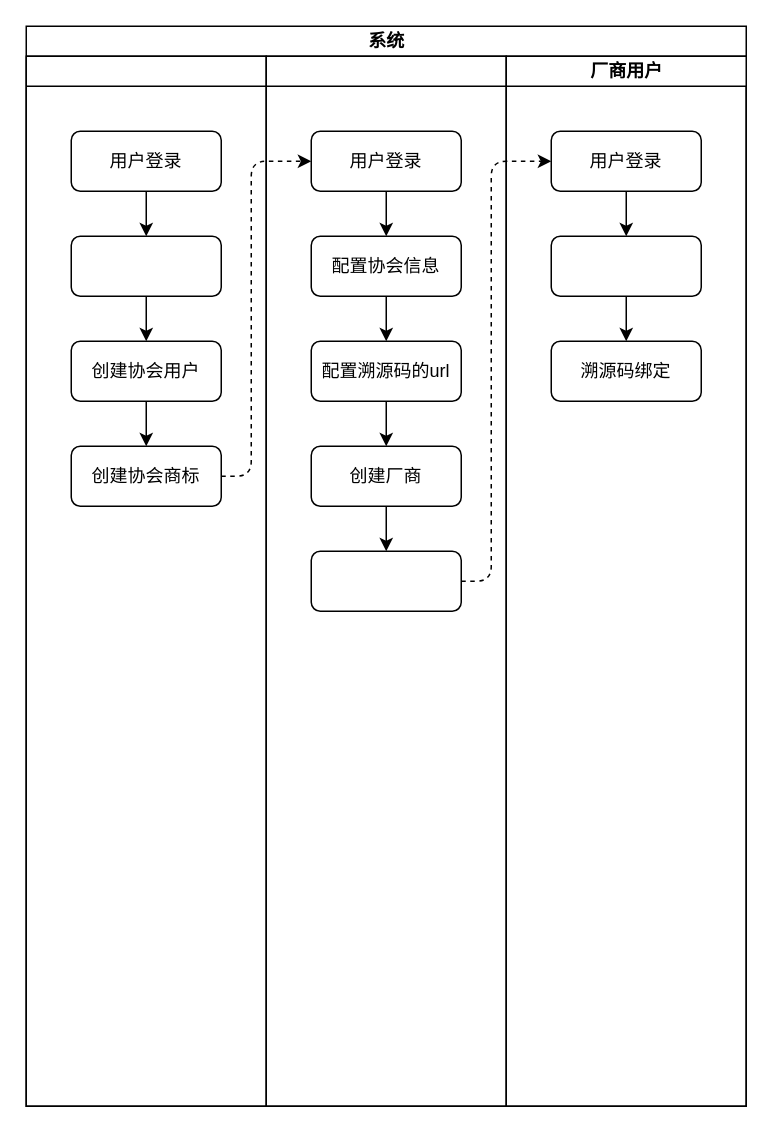
Image size: 773x1133. Some labels were removed from this diagram. Here are the shapes that lost their labels. From the top down, the box of each, then its label:
(70, 235, 221, 296): 创建各个类型用户的菜单
(550, 235, 701, 296): 创建模板
(25, 55, 266, 1106): 履信管理用户
(265, 55, 506, 1106): 协会用户
(310, 550, 461, 611): 生成溯源码 (需选择厂商)
